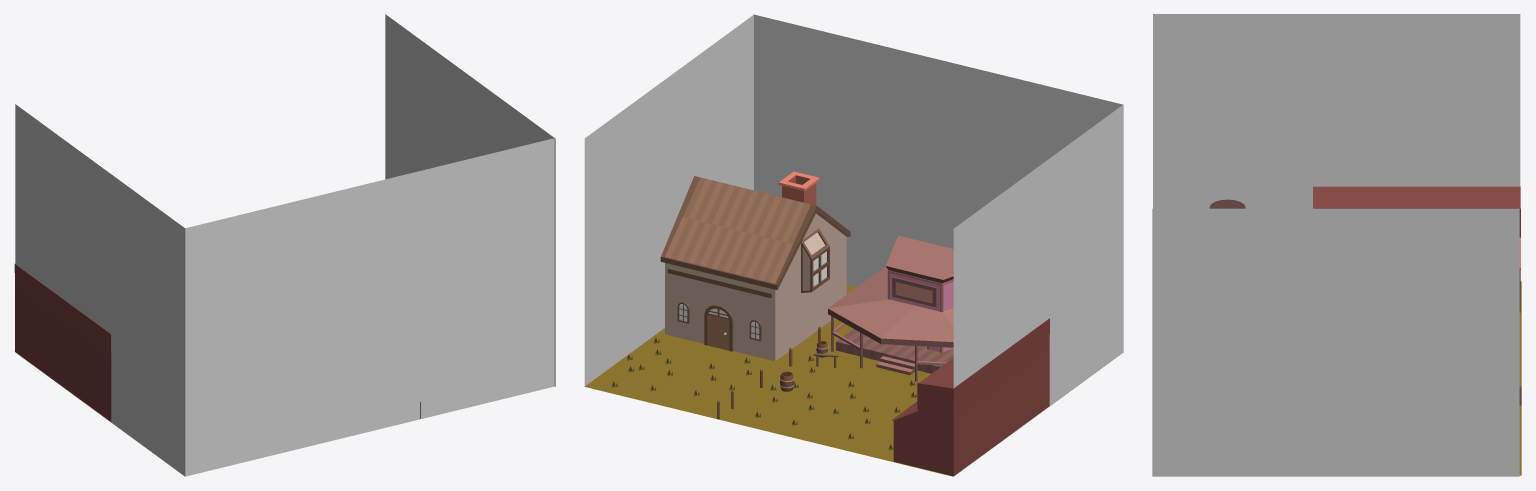
The model's file is cenario vr.fbx.
The picture shows the model from 3 angles, left to right: view 1: azimuth 30°, elevation 25°; view 2: azimuth 150°, elevation 25°; view 3: azimuth 270°, elevation 25°; orthographic projection. The views are drawn at different scales.
Parts seen in each view (by area): view 1: Plane.001, Plane.003, Plane.002, Cube.013; view 2: Plane.001, Plane.003, Plane.002, Plane, Cube.013, Cube.108, Cube, Cube.096, Cube.095, Cube.092, Cube.101, Cube.102 (+2 smaller); view 3: Plane.002, Plane.003, Cube.013, Plane.
Part boxes in pixels (left/top/right/bottom): Plane.001: left=185, top=138, right=554, bottom=476; Plane.003: left=15, top=104, right=185, bottom=476; Plane.002: left=385, top=14, right=555, bottom=386; Cube.013: left=14, top=264, right=111, bottom=421; Plane.001: left=753, top=14, right=1122, bottom=286; Plane.003: left=953, top=104, right=1123, bottom=476; Plane.002: left=584, top=14, right=754, bottom=385; Plane: left=584, top=284, right=1115, bottom=476; Cube.013: left=894, top=318, right=1049, bottom=476; Cube.108: left=665, top=213, right=846, bottom=361; Cube: left=828, top=235, right=953, bottom=373; Cube.096: left=665, top=177, right=810, bottom=283; Cube.095: left=660, top=176, right=850, bottom=290; Cube.092: left=707, top=315, right=729, bottom=350; Cube.101: left=801, top=228, right=829, bottom=292; Cube.102: left=782, top=175, right=816, bottom=205; Plane.002: left=1152, top=208, right=1519, bottom=476; Plane.003: left=1153, top=14, right=1520, bottom=208; Cube.013: left=1313, top=186, right=1520, bottom=208; Plane: left=1519, top=281, right=1521, bottom=475.
Bounding box in the file's own units: 12862 × 8251 × 10290.
